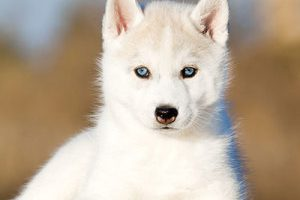husky: (86, 1, 254, 159)
